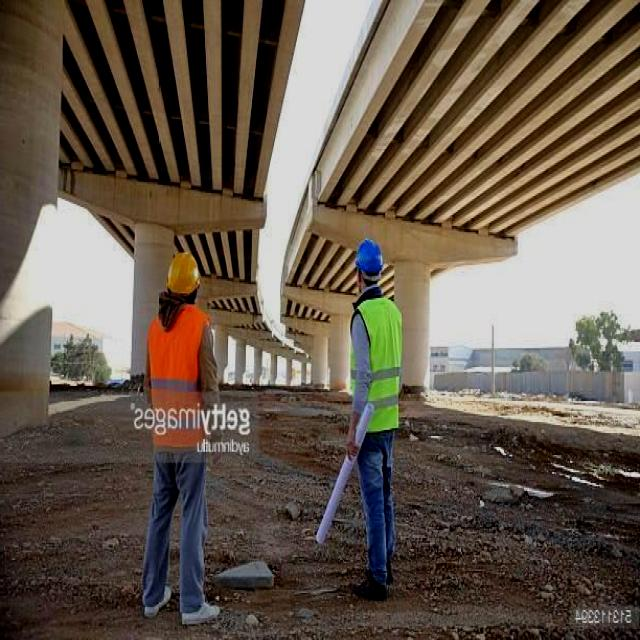hand_noglove: (343, 430, 360, 463)
head_helmet: (162, 248, 201, 296), (353, 237, 384, 278)
person: (134, 247, 218, 628), (341, 232, 404, 602)
shoes: (352, 572, 392, 606), (178, 599, 221, 629), (142, 580, 174, 618)
vest: (147, 308, 208, 461), (348, 295, 402, 431)
